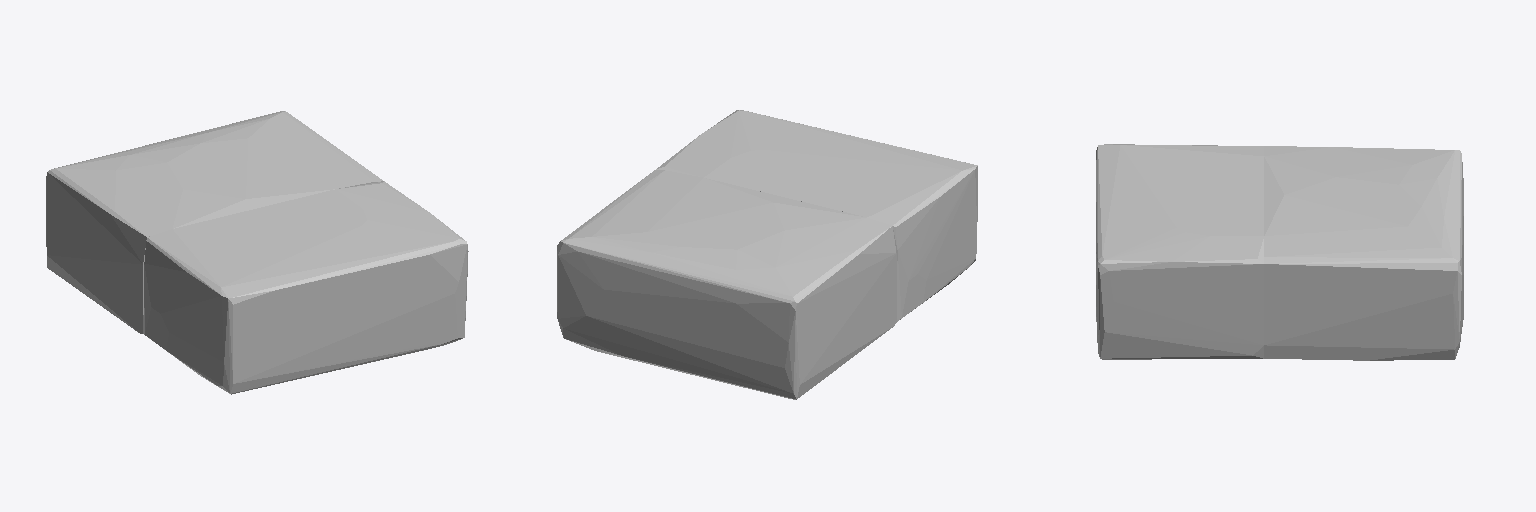
Rendered from cracker_box_collision.obj.
The picture shows the model from 3 angles: view 1: azimuth 30°, elevation 25°; view 2: azimuth 150°, elevation 25°; view 3: azimuth 270°, elevation 25°; orthographic projection.
Visible parts, largest first — view 1: convex_1, convex_0; view 2: convex_0, convex_1; view 3: convex_0, convex_1.
Boxes of the visible parts, x1,y1,x2,y2 form: convex_1: [143, 181, 468, 394]; convex_0: [46, 111, 383, 333]; convex_0: [557, 170, 896, 399]; convex_1: [656, 110, 977, 321]; convex_0: [1264, 146, 1463, 360]; convex_1: [1096, 144, 1263, 359].
Bounding box in the file's own units: 0.165 × 0.0733 × 0.2148.